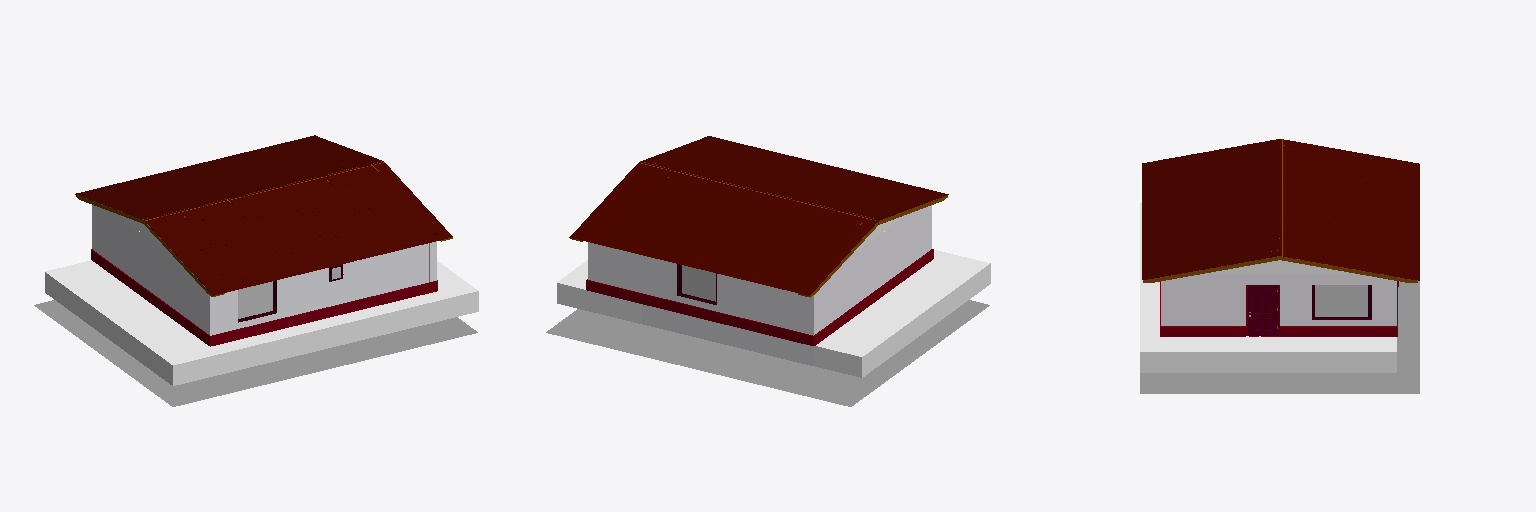
The picture shows the model from 3 angles: view 1: azimuth 30°, elevation 25°; view 2: azimuth 150°, elevation 25°; view 3: azimuth 270°, elevation 25°; orthographic projection.
Parts seen in each view (by area): view 1: Tuile_1_115, room_16_110, Tuile_1_111, ground_1, wall_1_6, wall_2_14, wall_1_4, wall_2_12, sweethome3d_window_pane_121; view 2: Tuile_1_111, ground_1, room_16_110, wall_8_62, Tuile_1_115, wall_2_14, wall_8_60, wall_2_12, sweethome3d_window_pane_151; view 3: Tuile_1_111, Tuile_1_115, room_16_110, wall_3_22, ground_1, wall_3_20, sweethome3d_window_pane_148, sweethome3d_opening_on_hinge_1_Exterior_door_2_PAINT_gloss_white, wall_13_95.
Part boxes in pixels (x1,y1,x2,y2): Tuile_1_115: (144,161,452,295); room_16_110: (45,260,478,385); Tuile_1_111: (76,135,382,219); ground_1: (34,300,477,406); wall_1_6: (210,243,428,335); wall_2_14: (92,207,209,334); wall_1_4: (210,281,437,346); wall_2_12: (91,249,209,345); sweethome3d_window_pane_121: (238,281,272,318); Tuile_1_111: (569,162,877,295); ground_1: (546,300,989,406); room_16_110: (557,250,990,377); wall_8_62: (588,242,813,365); Tuile_1_115: (639,136,948,220); wall_2_14: (814,207,931,334); wall_8_60: (586,280,813,345); wall_2_12: (814,249,933,345); sweethome3d_window_pane_151: (682,265,715,301); Tuile_1_111: (1279,139,1419,280); Tuile_1_115: (1142,139,1281,279); room_16_110: (1140,203,1396,372); wall_3_22: (1171,274,1396,336); ground_1: (1140,281,1419,393); wall_3_20: (1161,326,1397,336); sweethome3d_window_pane_148: (1315,285,1367,316); sweethome3d_opening_on_hinge_1_Exterior_door_2_PAINT_gloss_white: (1248,285,1277,335); wall_13_95: (1275,260,1354,273).
Bounding box in the file's own units: 154 × 60.6 × 122.